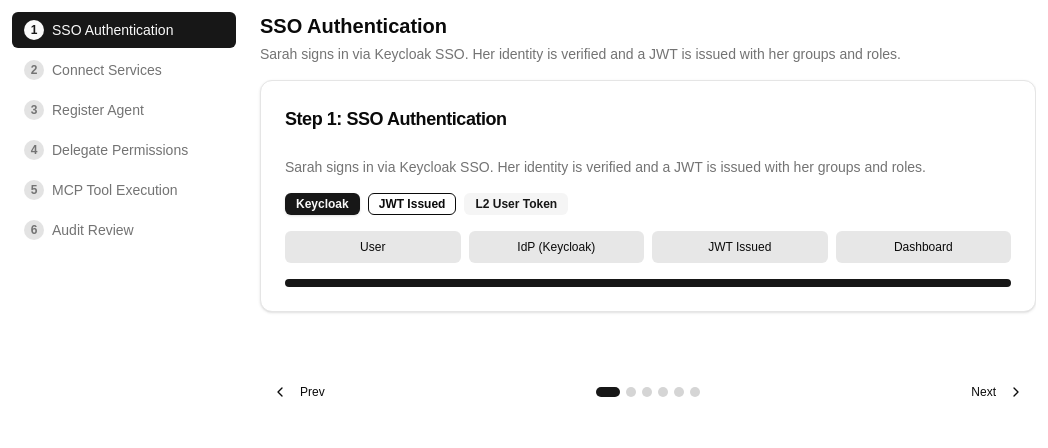
Scenario: SceneManager › shows pause indicator when hovered
The width and height of the screenshot is (1048, 448).
Expected: the text "Auto-rotation paused" is not shown
Hover over the element named "Demo scene viewer" at (524, 210), box [12, 12, 1036, 408]
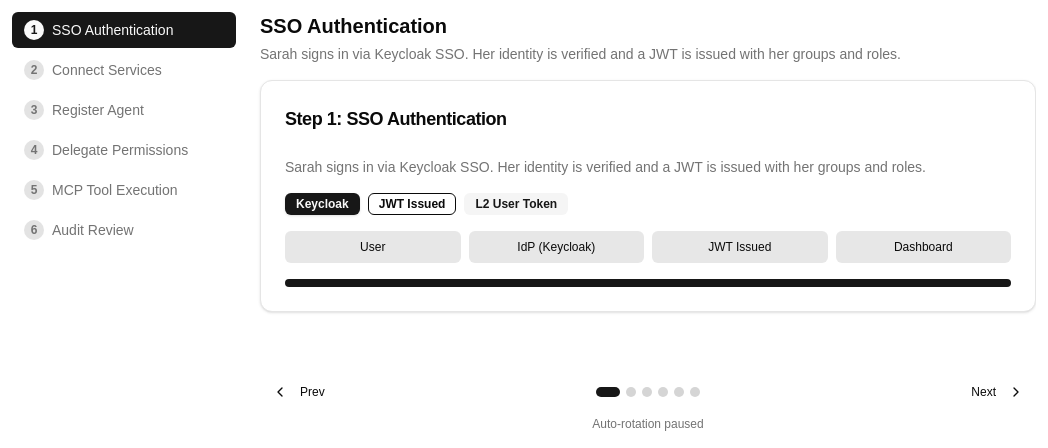
Now the text "Auto-rotation paused" is shown, box [592, 417, 704, 431]
